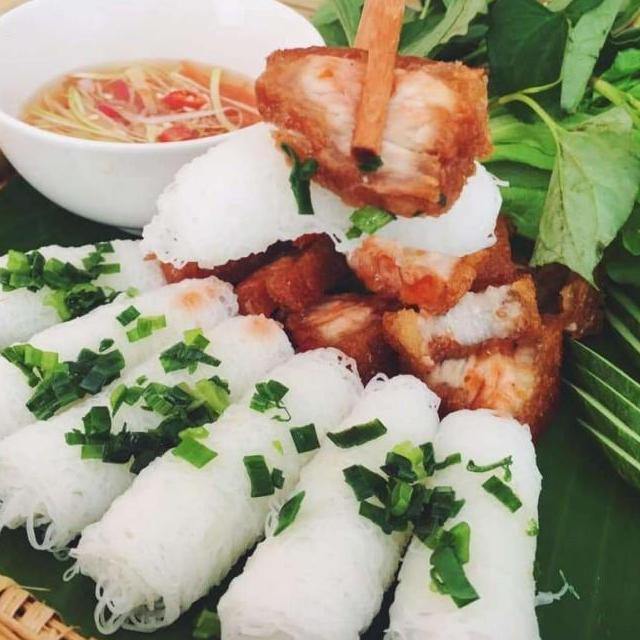banh hoi: (55, 341, 368, 640), (0, 309, 297, 563), (209, 366, 447, 640), (135, 119, 514, 277), (0, 268, 242, 472), (374, 401, 548, 640), (0, 229, 183, 364)
banh hoi heo quay: (0, 45, 605, 640)
thit heo quay: (250, 41, 498, 223), (390, 300, 572, 443), (377, 266, 548, 375), (281, 280, 414, 388), (344, 232, 492, 320), (226, 229, 350, 325)
